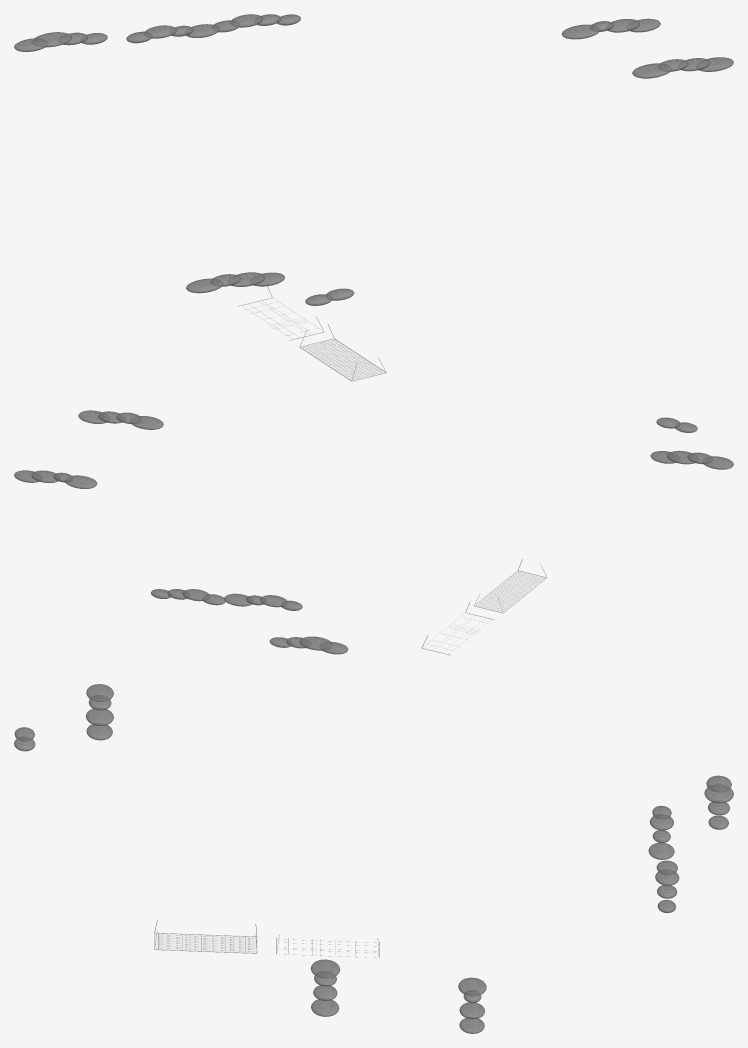
File: HighwireHorizon_10.obj
The picture shows the model from 3 angles, top to bottom: view 1: azimuth 30°, elevation 25°; view 2: azimuth 150°, elevation 25°; view 3: azimuth 270°, elevation 25°; orthographic projection. The views are drawn at different scales.
Parts seen in each view (by area): view 1: Box00119; view 2: Box00119; view 3: Box00119.
Boxes of the visible parts, left/top/right/bottom form: Box00119: left=301, top=339, right=384, bottom=379; Box00119: left=475, top=571, right=545, bottom=611; Box00119: left=155, top=933, right=256, bottom=952.
Bounding box in the file's own units: 382 × 94.23 × 365.
Materials: 3 (3 with a texture image).
